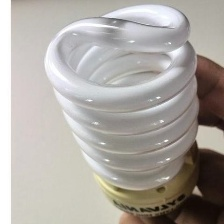light_bulb: (37, 2, 206, 224)
